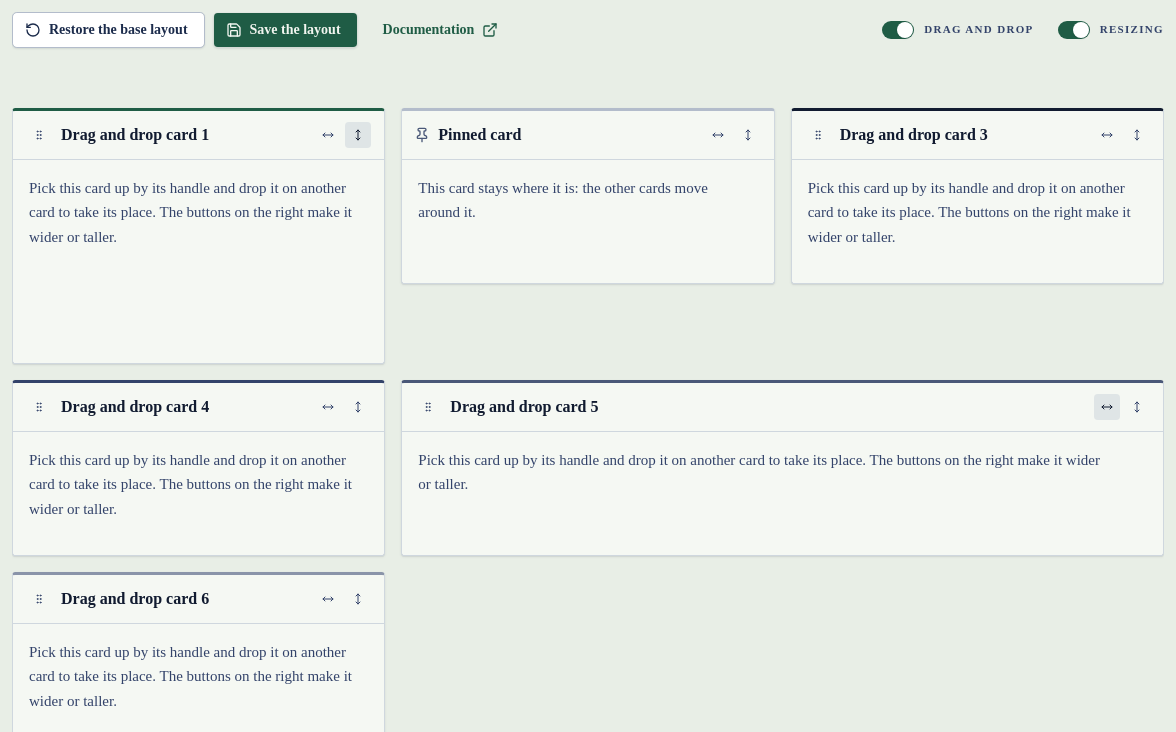
Test: DraggableGrid › saves the layout and offers to restore it
The width and height of the screenshot is (1176, 732).
Step 1. Click the button named "Show Drag and drop card 3 taller" → x=1137, y=135, box [1123,121,1151,149]
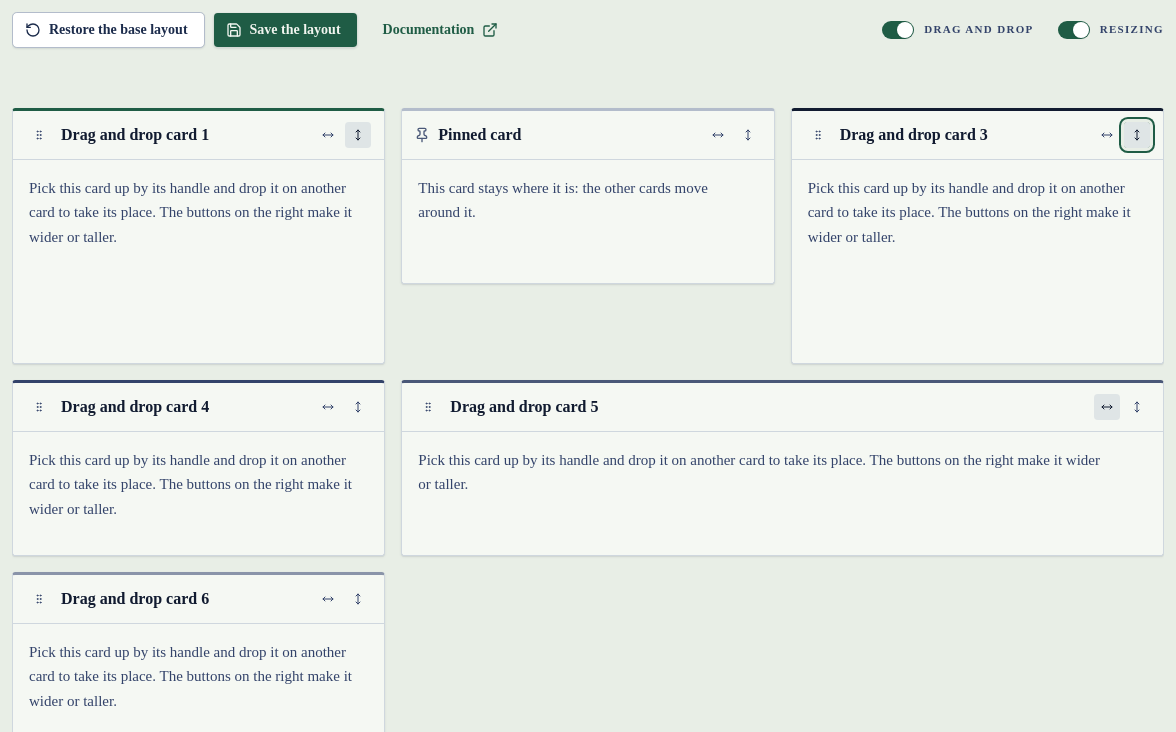
Step 2. Click the button "Save the layout" → x=285, y=30, box [213,12,358,48]
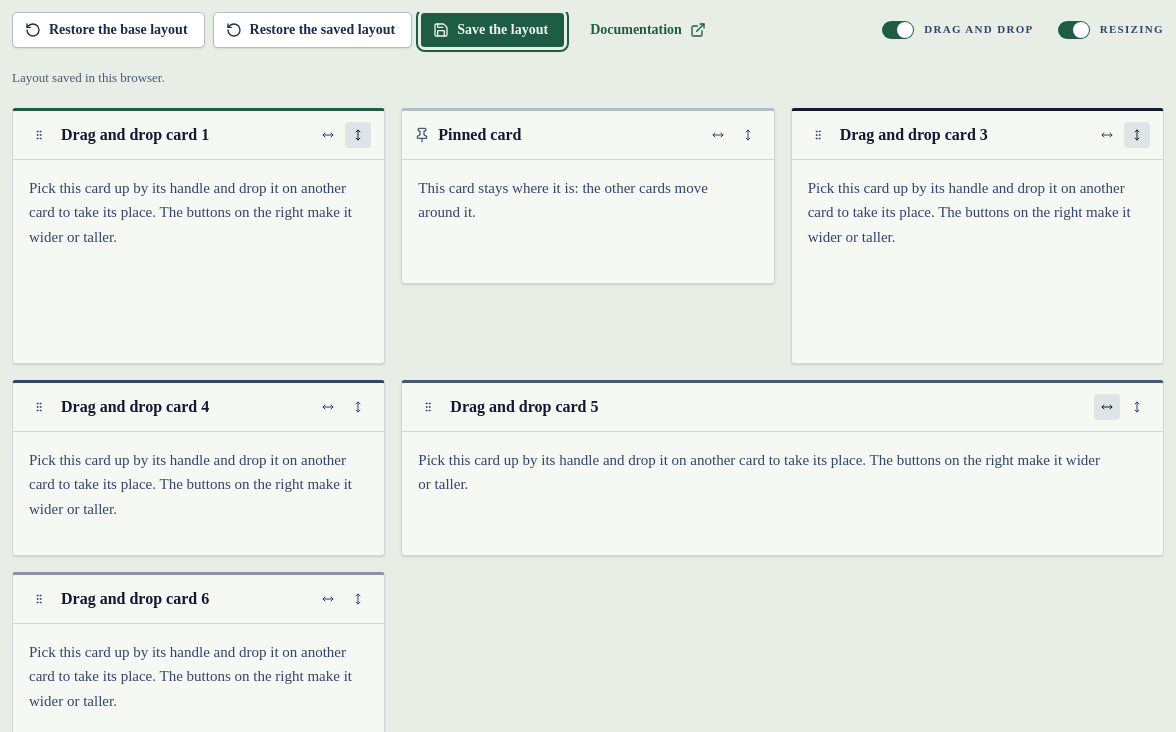
Expected: the button "Restore the saved layout" is shown, [213,12,412,48]
